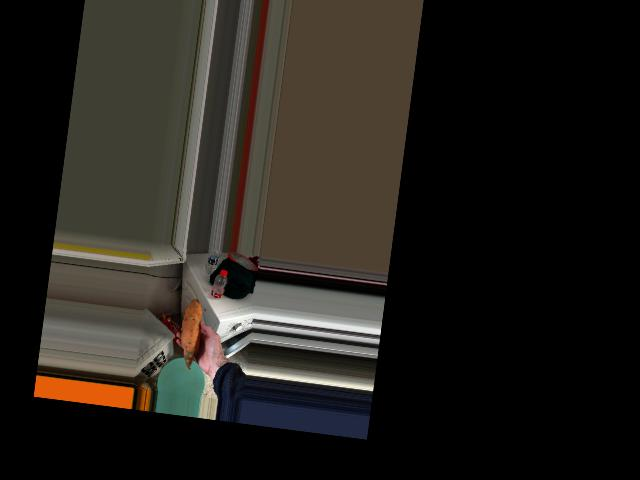sweet_potato: (181, 306, 208, 357)
